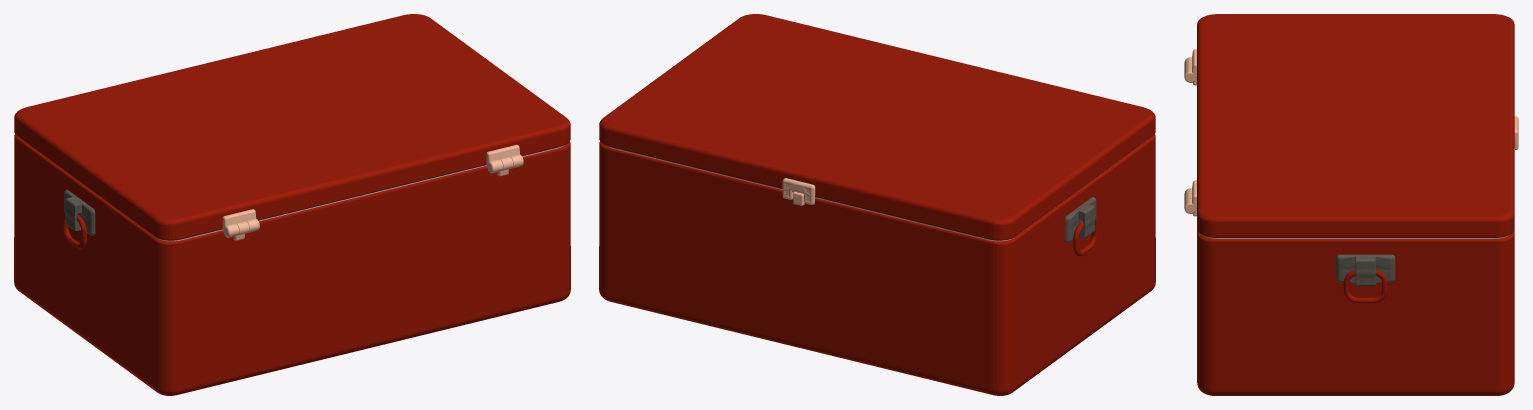
File: cargo d.fbx
3 views of the same model, side by side, from view 1: azimuth 30°, elevation 25°; view 2: azimuth 150°, elevation 25°; view 3: azimuth 270°, elevation 25° (orthographic).
Visible parts, largest first — view 1: crate's; view 2: crate's; view 3: crate's.
Part boxes in pixels (box(x1,y1,x2,y2)): crate's: box(14, 14, 570, 395); crate's: box(599, 14, 1155, 395); crate's: box(1184, 14, 1518, 395).
Bounding box in the file's own units: 165 × 64.36 × 108.
